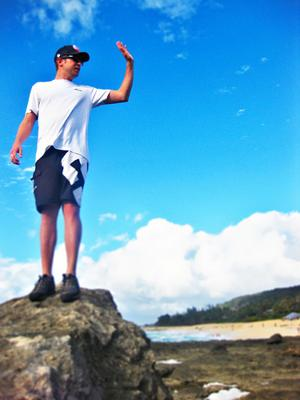person: (11, 42, 135, 298)
